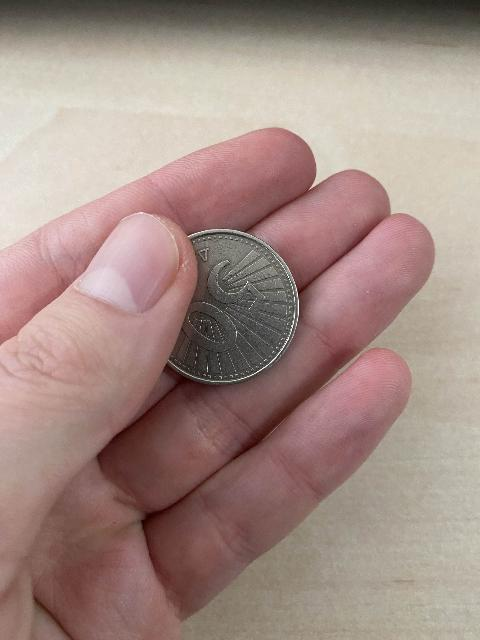50_coin: (176, 234, 296, 375)
